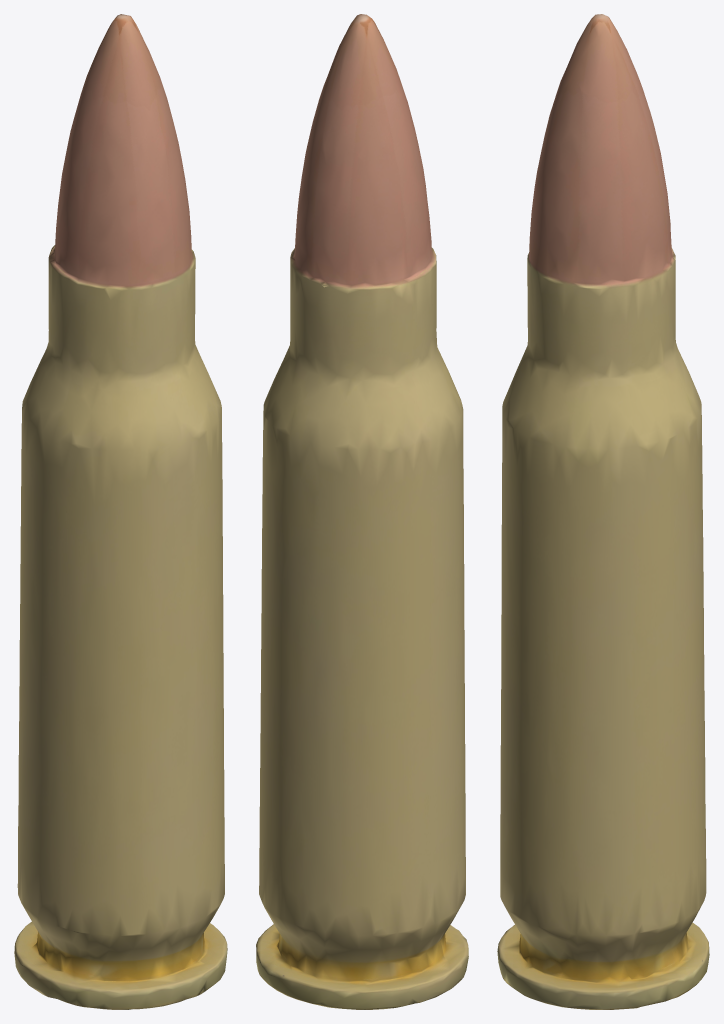
Rendered from tripo_convert_4dc327d8-0873-4916-9796-8149f42a941d.fbx.
3 renders of one model, left to right at view 1: azimuth 30°, elevation 25°; view 2: azimuth 150°, elevation 25°; view 3: azimuth 270°, elevation 25°, orthographic.
Parts seen in each view (by area): view 1: tripo_node_4dc327d8; view 2: tripo_node_4dc327d8; view 3: tripo_node_4dc327d8.
Part boxes in pixels (<box>): tripo_node_4dc327d8: <box>14,14,227,1009</box>; tripo_node_4dc327d8: <box>256,14,468,1009</box>; tripo_node_4dc327d8: <box>497,14,709,1009</box>.
Size of the model in its own units: 0.2015 by 0.9994 by 0.2014.
1 material, 1 textured.
